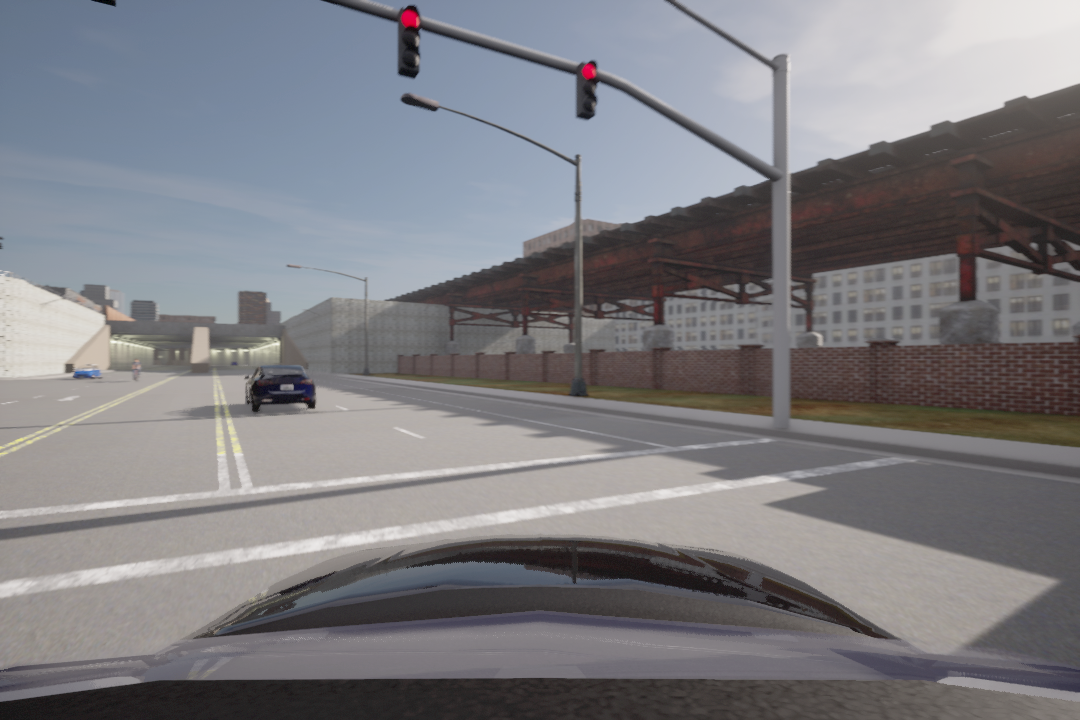TrafficLight: (391, 4, 426, 84), (571, 55, 602, 119)
